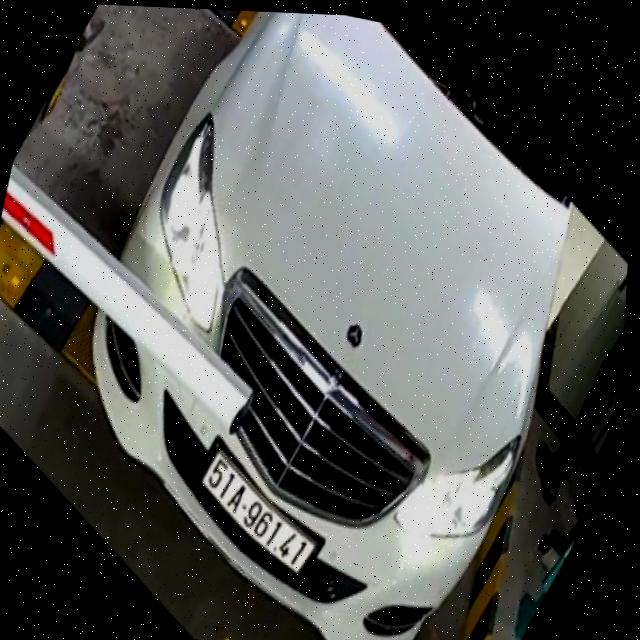car: (34, 3, 612, 640)
plate: (178, 439, 341, 586)
